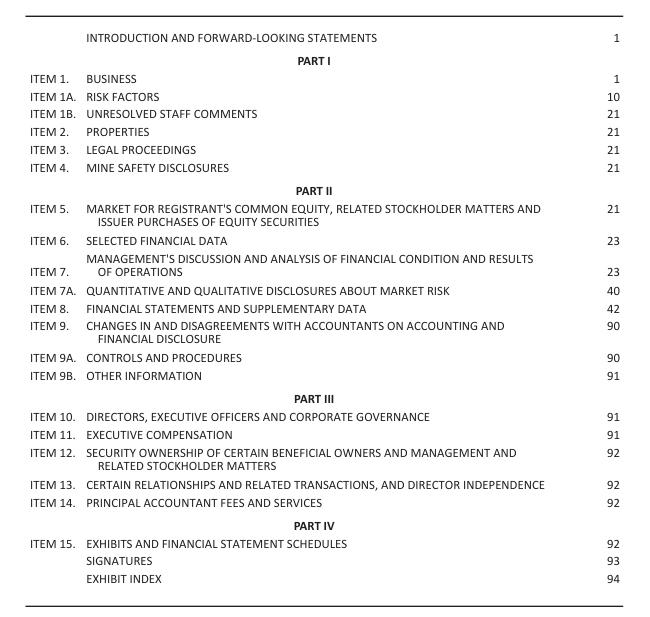table: (28, 28, 619, 585)
table column: (80, 28, 574, 585), (28, 28, 80, 585), (574, 28, 619, 585)
table column header: (28, 28, 619, 68)
table row: (28, 28, 619, 68), (28, 198, 619, 229), (28, 248, 619, 279), (28, 316, 619, 347), (28, 442, 619, 473), (28, 157, 619, 178), (28, 512, 619, 533), (28, 178, 619, 198), (28, 366, 619, 386), (28, 386, 619, 406), (28, 492, 619, 512), (28, 229, 619, 248), (28, 279, 619, 298), (28, 347, 619, 366), (28, 473, 619, 492), (28, 68, 619, 86), (28, 86, 619, 104), (28, 104, 619, 122), (28, 139, 619, 157), (28, 298, 619, 316), (28, 406, 619, 424), (28, 424, 619, 442), (28, 533, 619, 551), (28, 551, 619, 569), (28, 122, 619, 139), (28, 569, 619, 585)
table spanning cell: (28, 533, 80, 585), (28, 157, 80, 198), (28, 492, 80, 533), (28, 366, 80, 406)
